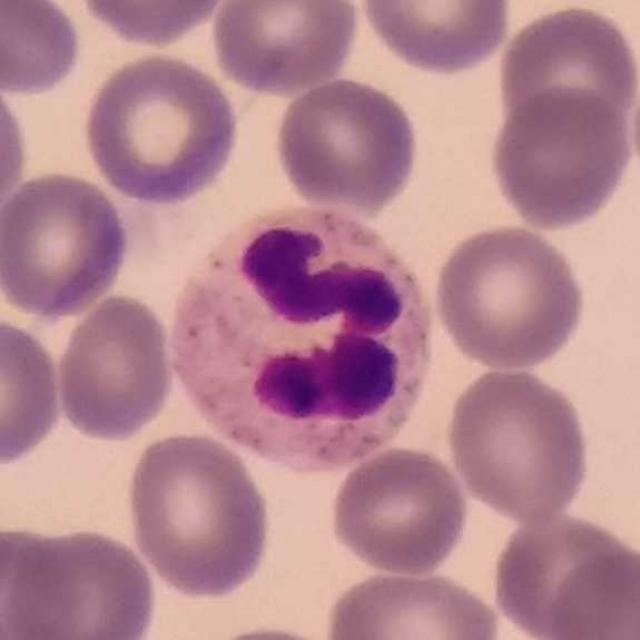Neutrophil: (162, 198, 443, 486)
RBC: (121, 428, 276, 602), (79, 48, 243, 206), (443, 362, 594, 526), (429, 220, 588, 373), (483, 82, 633, 230), (272, 74, 423, 217), (0, 167, 134, 321), (493, 1, 640, 141), (325, 443, 472, 578), (51, 291, 179, 445), (2, 523, 162, 640), (496, 512, 633, 640), (207, 0, 363, 96), (322, 564, 504, 640), (356, 0, 514, 78), (0, 310, 67, 472), (544, 542, 640, 640), (0, 0, 86, 98), (71, 0, 236, 49), (0, 67, 31, 229), (215, 622, 334, 640)
